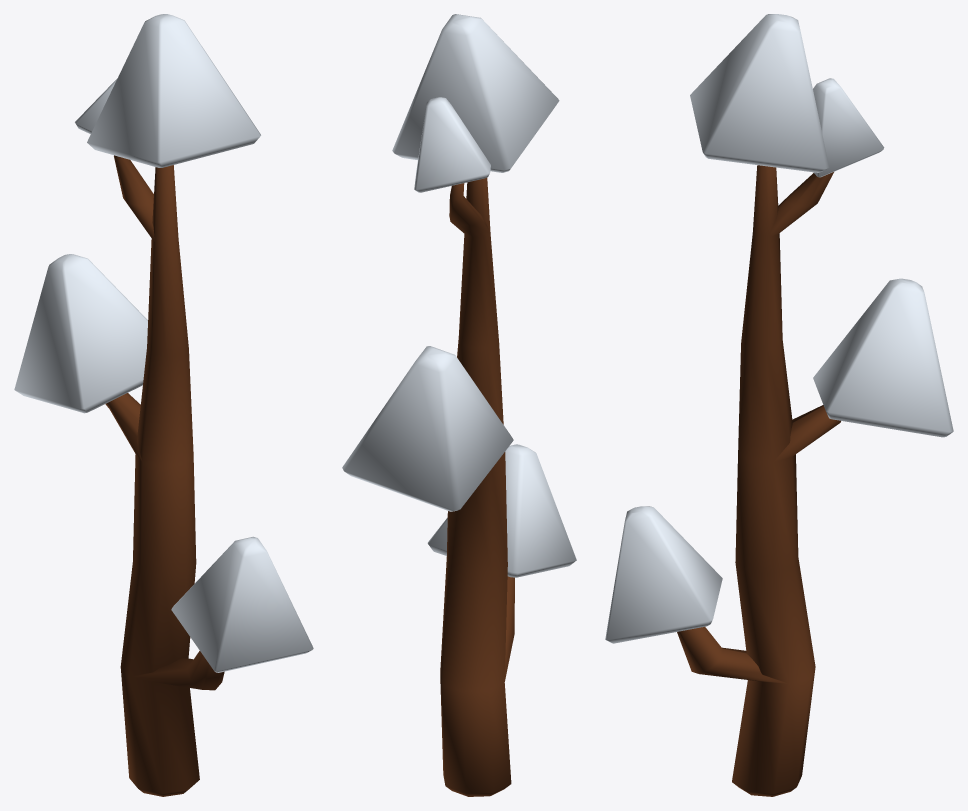
File: tree-35_col.fbx
The picture shows the model from 3 angles, left to right: view 1: azimuth 30°, elevation 25°; view 2: azimuth 150°, elevation 25°; view 3: azimuth 270°, elevation 25°; orthographic projection.
Parts seen in each view (by area): view 1: tree-35.col; view 2: tree-35.col; view 3: tree-35.col.
Part boxes in pixels (bbox=[...]): tree-35.col: bbox=[14, 14, 313, 796]; tree-35.col: bbox=[342, 14, 576, 796]; tree-35.col: bbox=[605, 14, 953, 796].
Size of the model in its own units: 0.1992 by 1 by 0.4107.
1 material, 1 textured.
